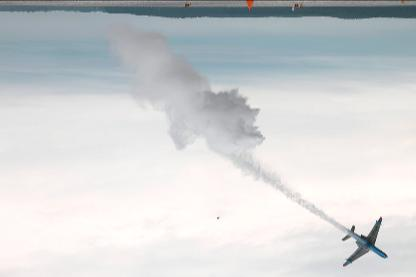B52: (340, 217, 388, 267)
